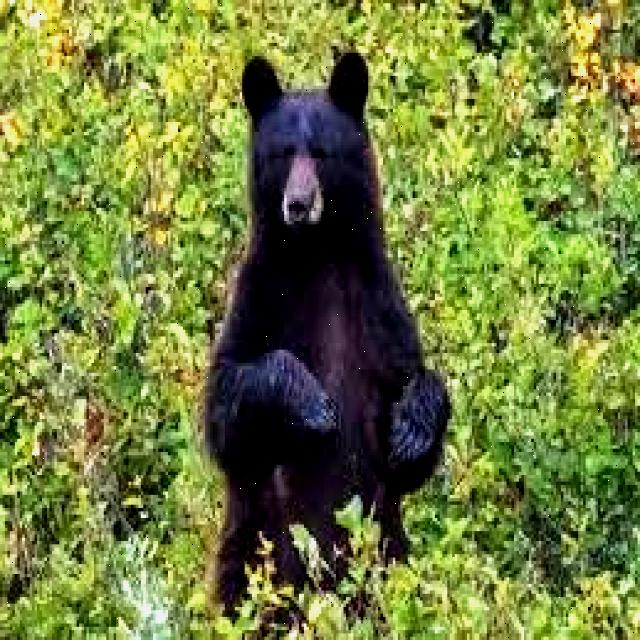bear: (185, 21, 416, 612)
